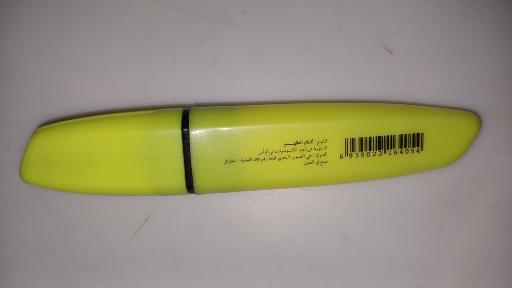Highlighter: (20, 103, 483, 197)
